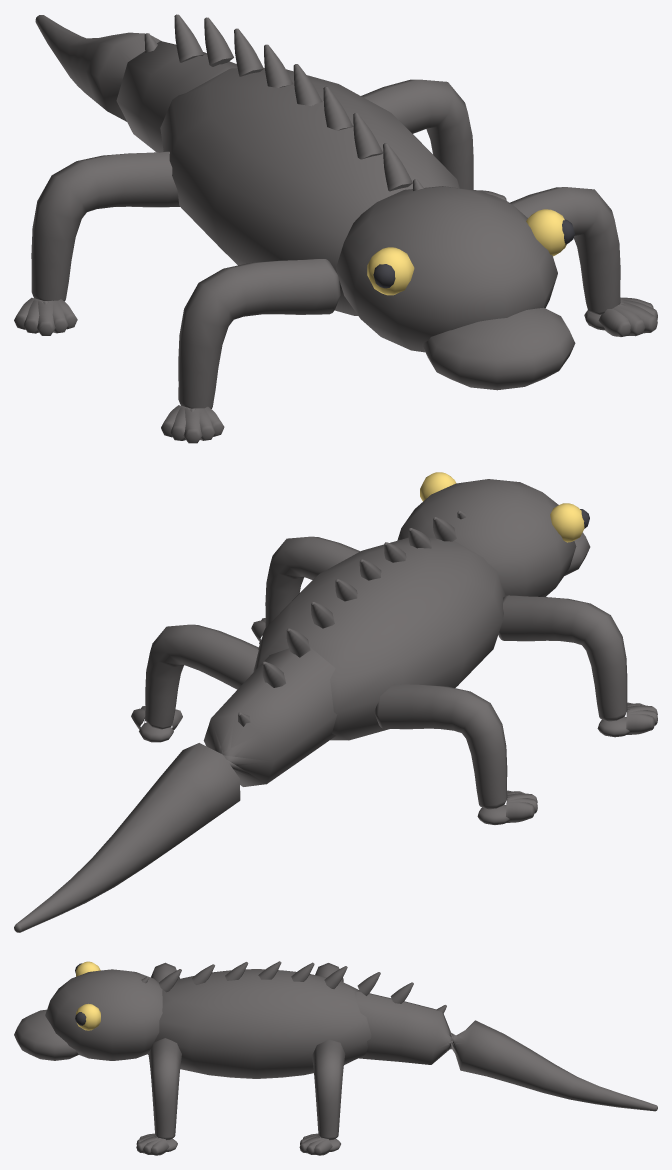
The model's file is reptiles-amphibians-and-minibeasts-marine-iguana-63515aab__22429.glb.
The picture shows the model from 3 angles, top to bottom: view 1: azimuth 30°, elevation 25°; view 2: azimuth 150°, elevation 25°; view 3: azimuth 270°, elevation 25°; orthographic projection. The views are drawn at different scales.
Parts seen in each view (by area): view 1: marine-iguana; view 2: marine-iguana; view 3: marine-iguana.
Boxes of the visible parts, box(x1,y1,x2,y2) form: marine-iguana: box(14, 14, 657, 443); marine-iguana: box(14, 472, 657, 932); marine-iguana: box(14, 961, 657, 1155).
Size of the model in its own units: 0.4652 by 0.2159 by 0.95.
